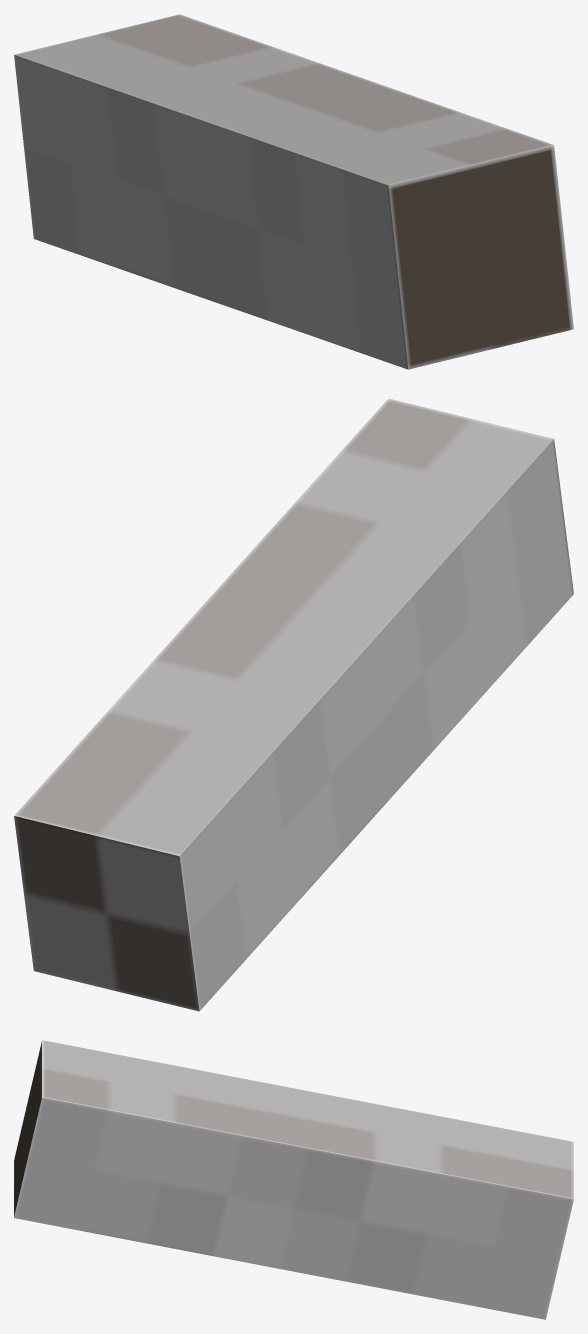
Rendered from pb_tail.obj.
3 views of the same model, one above another, from view 1: azimuth 30°, elevation 25°; view 2: azimuth 150°, elevation 25°; view 3: azimuth 270°, elevation 25° (orthographic). The views are drawn at different scales.
Parts seen in each view (by area): view 1: Lobo.006; view 2: Lobo.006; view 3: Lobo.006.
Boxes of the visible parts, x1=… form: Lobo.006: x1=14, y1=14, x2=573, y2=369; Lobo.006: x1=14, y1=398, x2=573, y2=1011; Lobo.006: x1=14, y1=1040, x2=573, y2=1319.
Size of the model in its own units: 1.25 by 2.26 by 5.15.
1 material, 1 textured.
